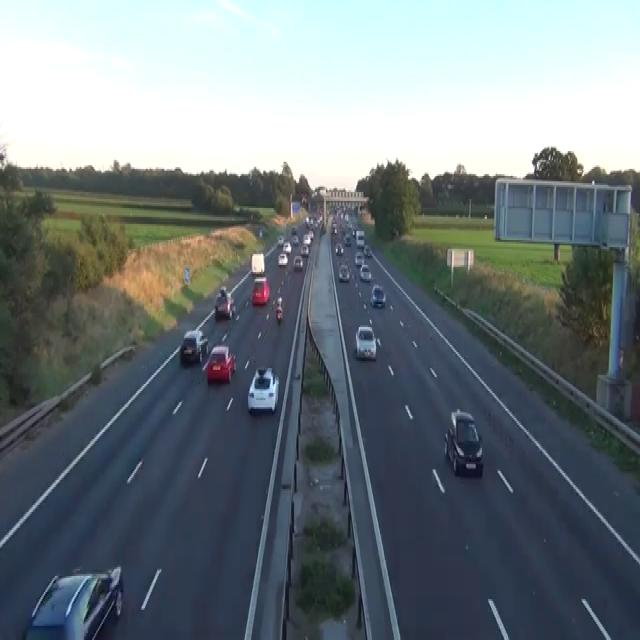Car: (24, 564, 123, 638), (443, 409, 483, 476), (247, 366, 279, 414), (206, 345, 236, 382), (180, 329, 208, 363), (355, 325, 376, 359), (214, 286, 235, 318), (251, 276, 270, 306), (370, 282, 386, 308), (305, 211, 321, 233), (359, 263, 371, 281), (275, 295, 283, 322), (338, 263, 349, 281), (277, 250, 288, 266), (293, 254, 303, 270), (354, 250, 364, 266), (282, 240, 291, 254), (363, 244, 371, 258), (300, 244, 309, 256), (302, 233, 311, 245), (219, 286, 227, 299), (335, 242, 343, 254), (343, 233, 351, 245), (331, 222, 337, 235), (277, 235, 284, 245), (292, 235, 299, 245), (301, 194, 307, 204), (320, 224, 325, 235), (291, 226, 297, 234), (308, 230, 314, 238), (258, 228, 262, 236), (352, 228, 356, 236)
Truck: (250, 252, 264, 274)
